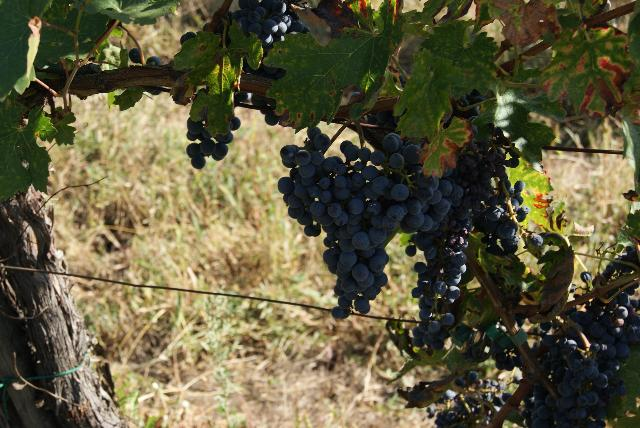grapes: (322, 132, 469, 318), (522, 298, 629, 428), (278, 134, 338, 224)
